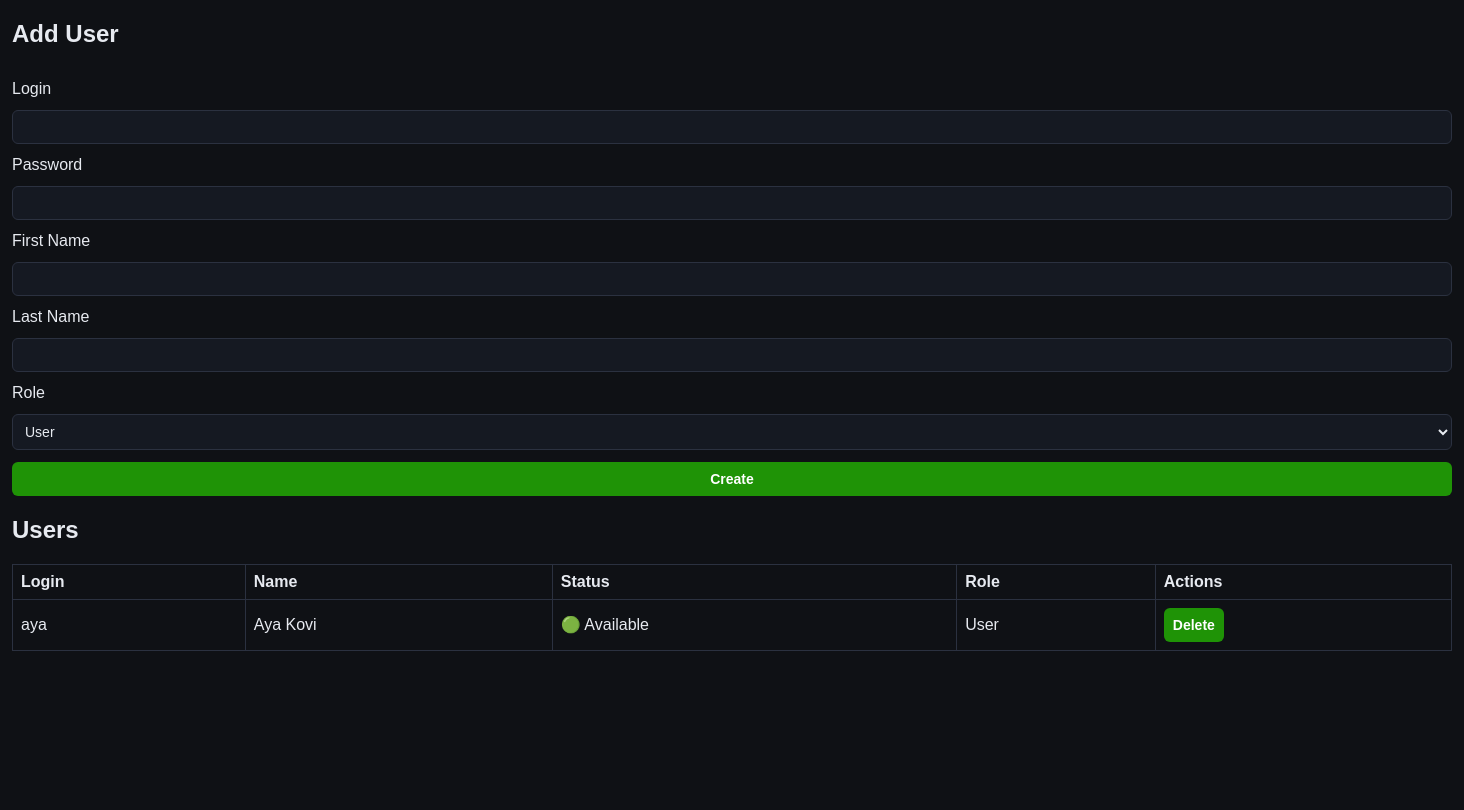
Test case: AdminUsersClient › shows error when deleting fails
The image size is (1464, 810).
Click the button "Delete" at (1194, 625), box [1164,608,1224,642]
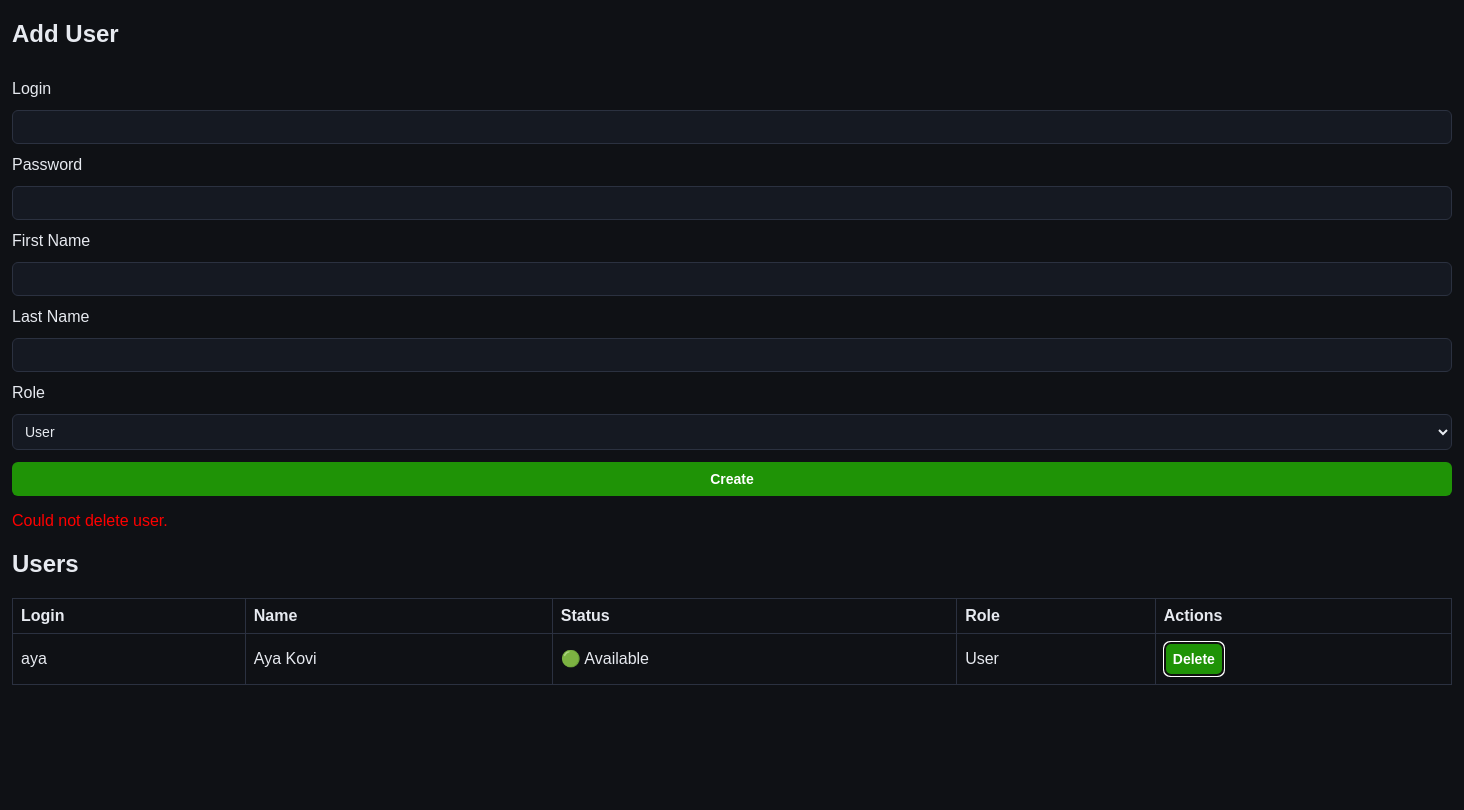
Now the text "Could not delete user." is shown, box [12,512,168,529]
